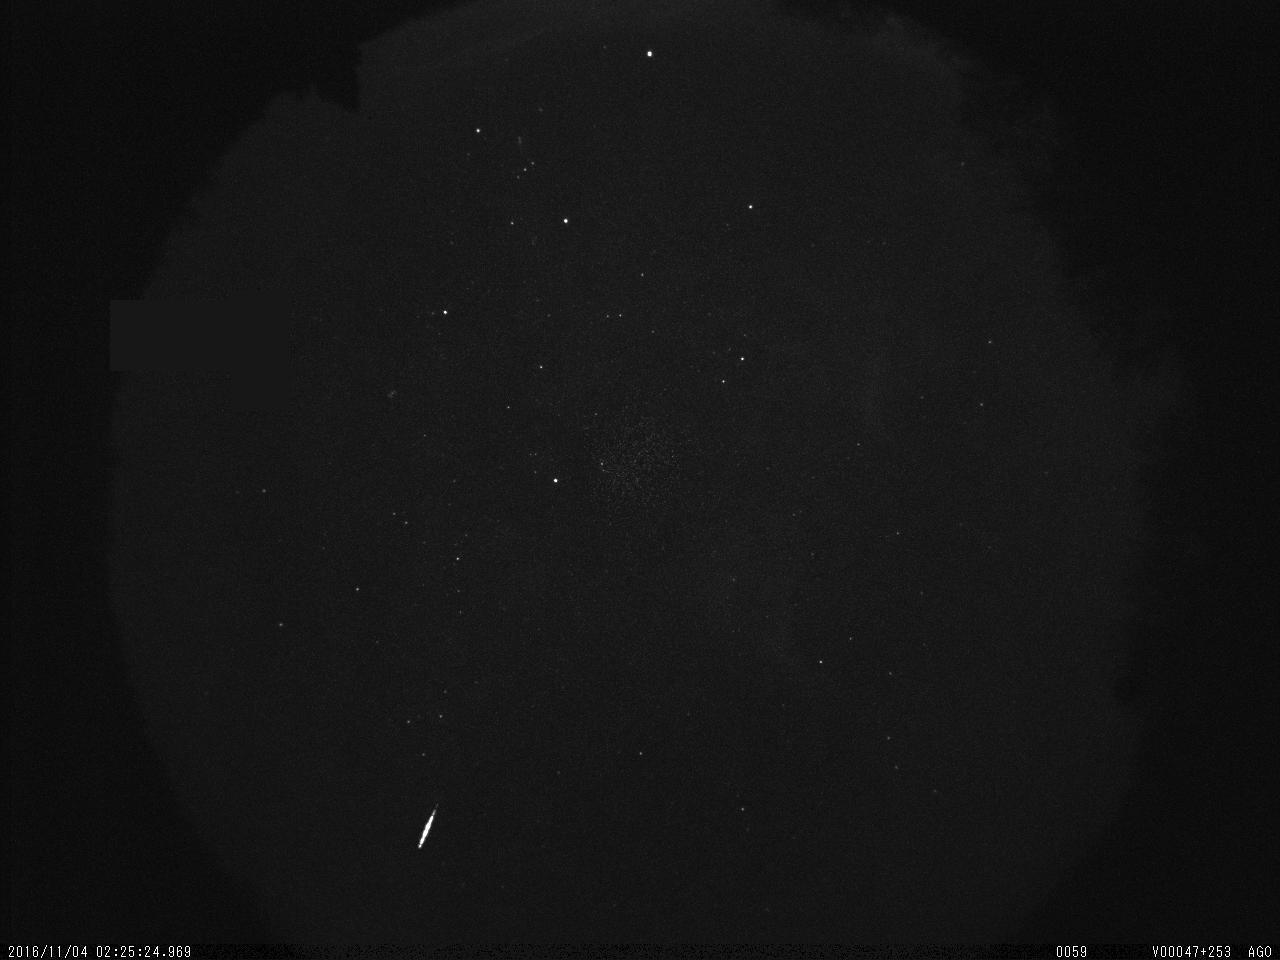meteor: (413, 796, 443, 859)
